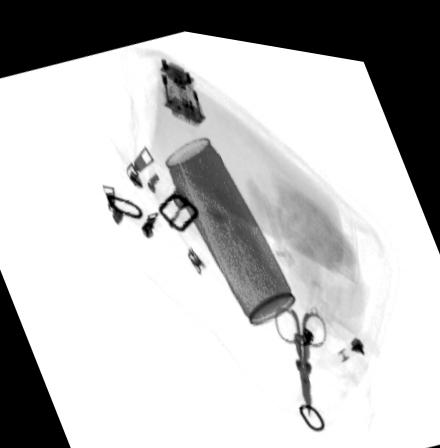Scissors: (275, 300, 327, 407)
